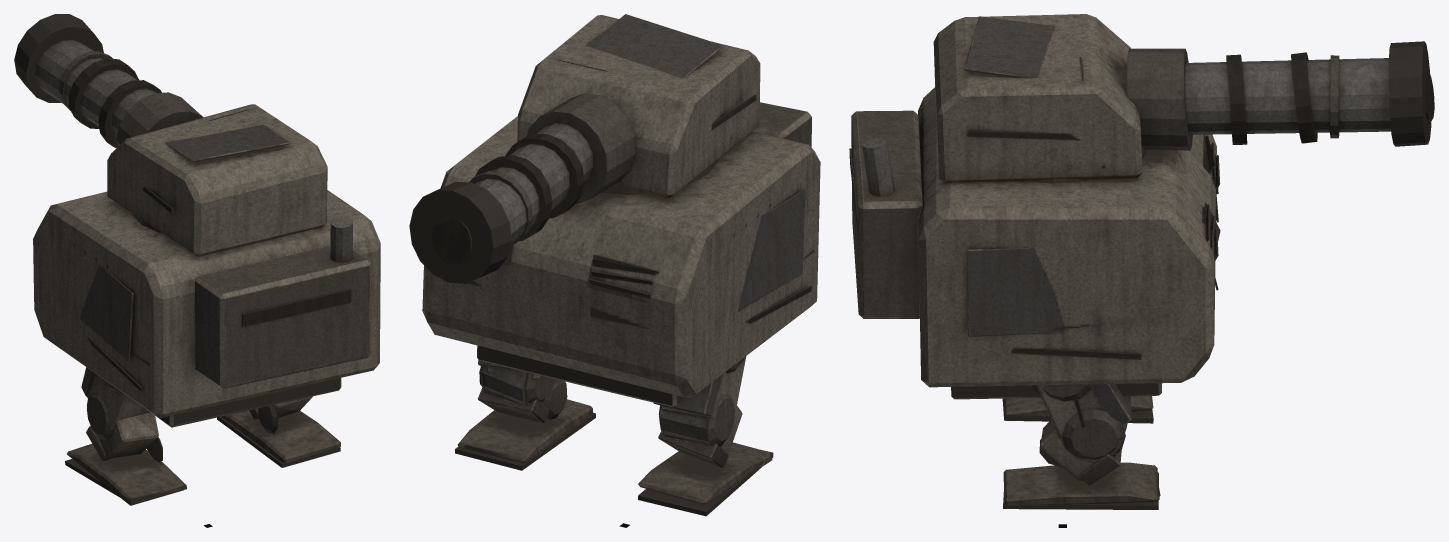
File: ord_fatboy_wreck.fbx
3 views of the same model, side by side, from view 1: azimuth 30°, elevation 25°; view 2: azimuth 150°, elevation 25°; view 3: azimuth 270°, elevation 25° (orthographic). The views are drawn at different scales.
Visible parts, largest first — view 1: base_bar, cannon_bar, footL_bar, footR_bar, thighL_bar, shinL_bar, shinR_bar; view 2: base_bar, cannon_bar, footL_bar, footR_bar, thighL_bar, thighR_bar, shinR_bar, shinL_bar; view 3: base_bar, cannon_bar, footR_bar, thighR_bar, shinR_bar, footL_bar.
Part boxes in pixels (x1,y1,x2,y2): base_bar: (33,190,380,427); cannon_bar: (14,14,327,256); footL_bar: (65,444,186,505); footR_bar: (217,410,340,467); thighL_bar: (81,367,150,440); shinL_bar: (86,412,162,462); shinR_bar: (249,396,312,433); base_bar: (422,102,820,407); cannon_bar: (409,14,760,283); footL_bar: (638,442,773,516); footR_bar: (455,399,595,470); thighL_bar: (653,356,746,446); thighR_bar: (478,360,555,405); shinR_bar: (478,379,567,422); shinL_bar: (658,406,742,467); base_bar: (849,87,1220,399); cannon_bar: (933,14,1434,183); footR_bar: (1003,462,1160,509); thighR_bar: (1032,384,1131,462); shinR_bar: (1039,420,1121,484); footL_bar: (1002,396,1153,423).
Bounding box in the file's own units: 778 × 1259 × 1388.
Materials: 2 (2 with a texture image).
